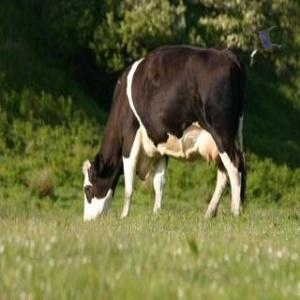drone: (227, 14, 292, 79)
